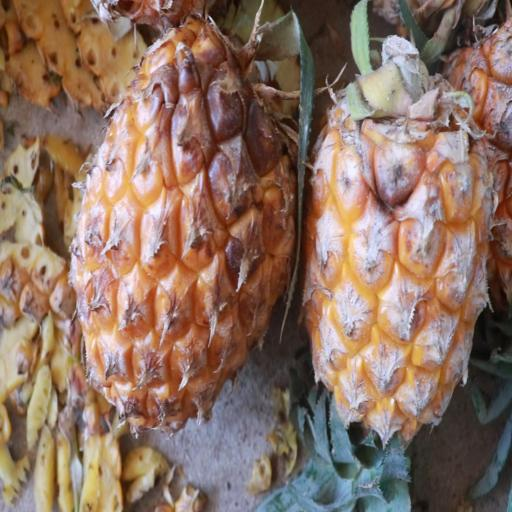Pineapple - v8 v1: (62, 15, 303, 450), (295, 22, 496, 495)
